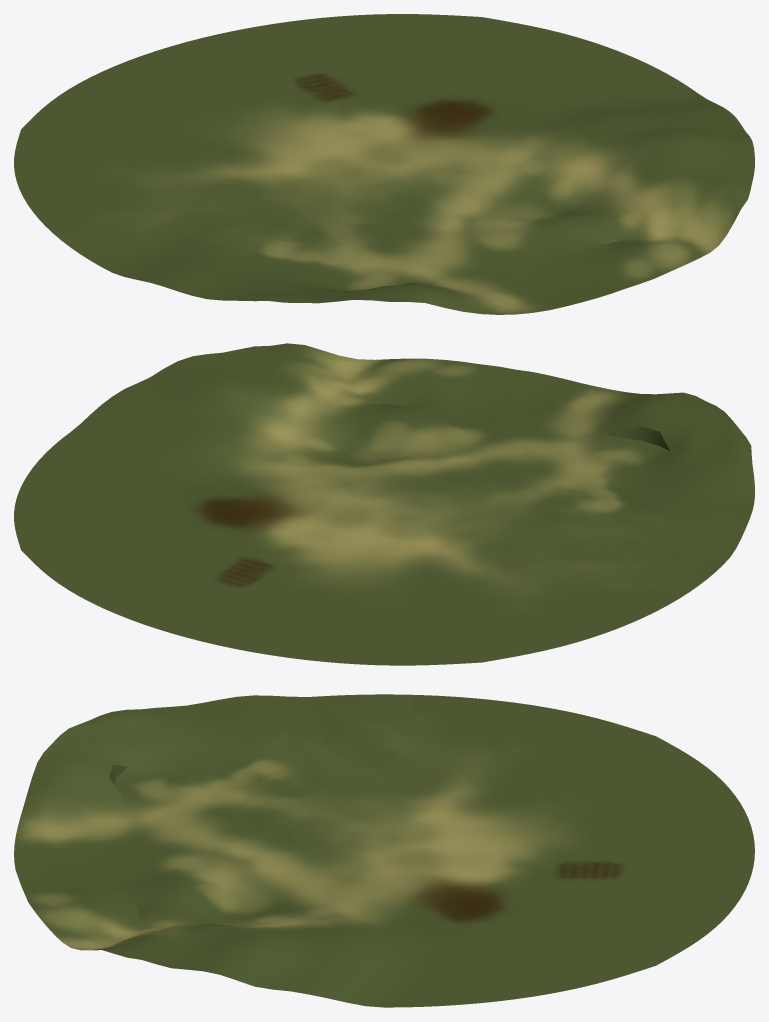
Rendered from ground.gltf.
The picture shows the model from 3 angles, top to bottom: view 1: azimuth 30°, elevation 25°; view 2: azimuth 150°, elevation 25°; view 3: azimuth 270°, elevation 25°; orthographic projection. The views are drawn at different scales.
Parts seen in each view (by area): view 1: Ground; view 2: Ground; view 3: Ground.
Part boxes in pixels (box(x1,y1,x2,y2)): Ground: box(14, 14, 754, 314); Ground: box(14, 343, 754, 665); Ground: box(14, 694, 754, 1007).
Size of the model in its own units: 123 by 8.48 by 123.
1 material, 1 textured.
